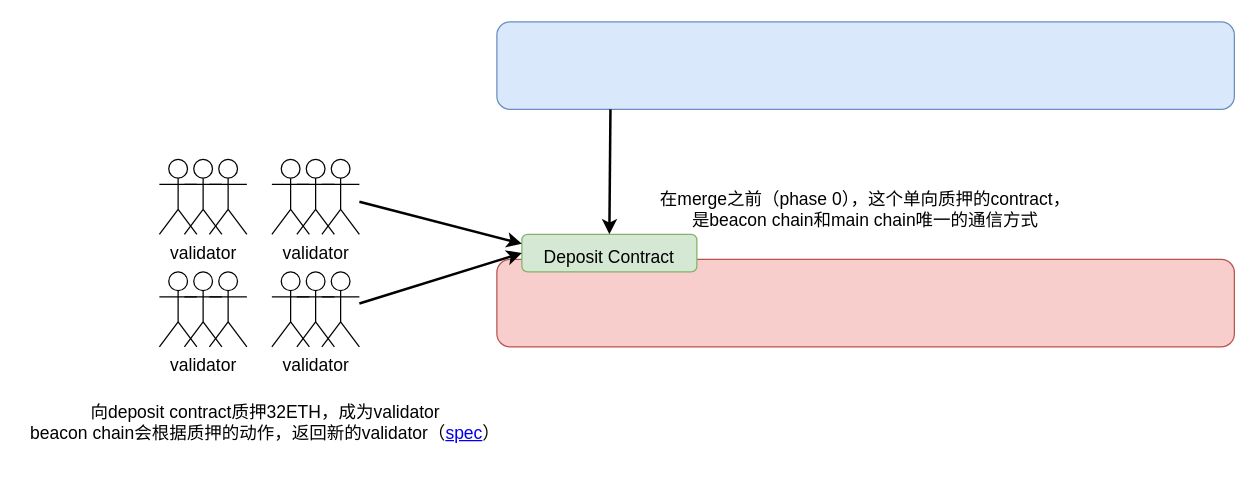
Some shapes in this 1256 by 481 pixel diagram are drawn without their labels. The shapes that lost their labels are listed below. From the top down, each one's centre as x and y in pixels, then its label:
At (x=865, y=65): "Beacon Chain (consensus)".
At (x=865, y=302): "Main Chain (Execution)".
